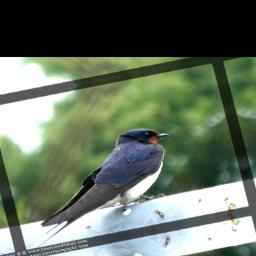Swallow: (4, 122, 193, 254)
